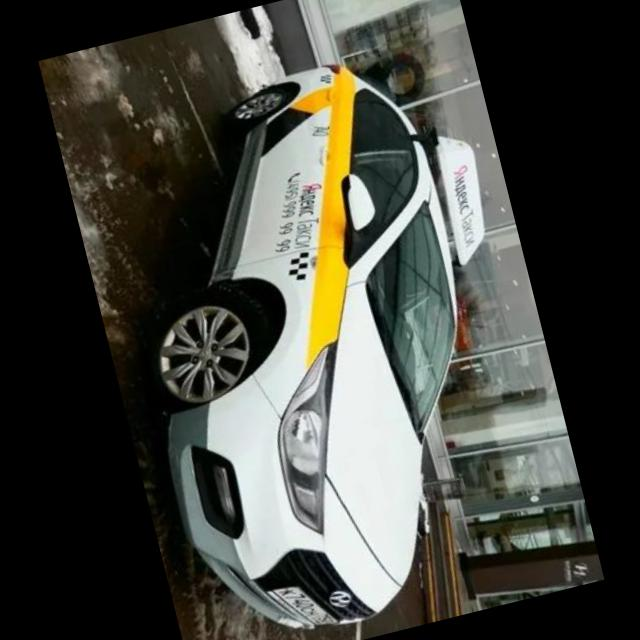taxi: (80, 33, 579, 640)
